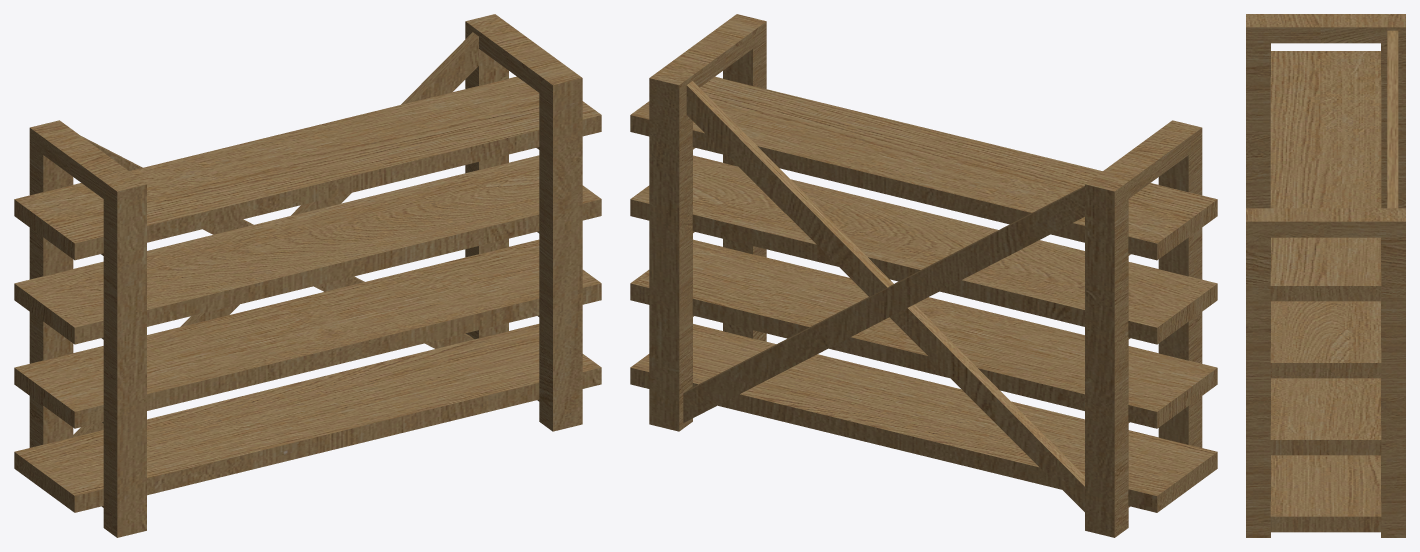
File: Shelf.glb
3 views of the same model, side by side, from view 1: azimuth 30°, elevation 25°; view 2: azimuth 150°, elevation 25°; view 3: azimuth 270°, elevation 25° (orthographic). The views are drawn at different scales.
Parts seen in each view (by area): view 1: SM_MERGED_StaticMeshActor_34; view 2: SM_MERGED_StaticMeshActor_34; view 3: SM_MERGED_StaticMeshActor_34.
Boxes of the visible parts, x1,y1,x2,y2 form: SM_MERGED_StaticMeshActor_34: (14,14,601,537); SM_MERGED_StaticMeshActor_34: (630,14,1217,537); SM_MERGED_StaticMeshActor_34: (1246,14,1405,537).
Size of the model in its own units: 1.57 by 0.9886 by 0.4529.
1 material, 1 textured.
